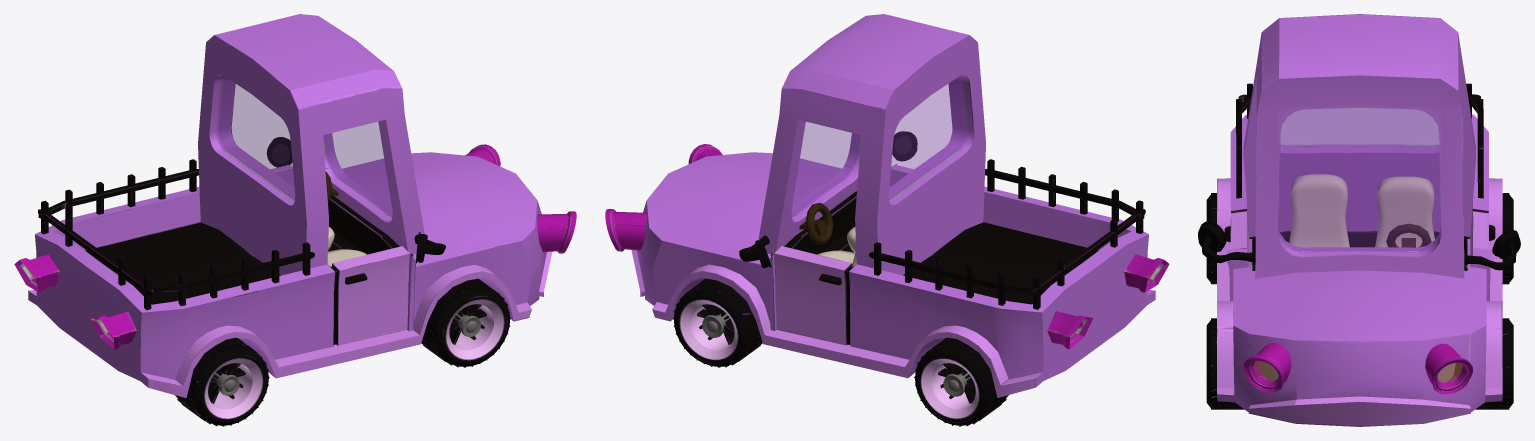
The model's file is pickup_truck_b19f9ed0.glb.
3 views of the same model, side by side, from view 1: azimuth 30°, elevation 25°; view 2: azimuth 150°, elevation 25°; view 3: azimuth 270°, elevation 25° (orthographic). The views are drawn at different scales.
Visible parts, largest first — view 1: Cube, Cube.001, Cylinder, Cylinder.001, Cube.002, Cylinder.006, Cube.017, Cube.018, Cube.019, Cylinder.009, Cylinder.008; view 2: Cube, Cube.001, Cylinder.003, Cylinder.002, Cube.002, Cylinder.007, Cube.017, Cube.018, Cube.019, Torus, Cylinder.008, Cylinder.009; view 3: Cube, Cube.002, Cube.001, Plane.001, Plane, Cylinder.007, Cylinder.006, Cylinder.003, Cylinder.008, Cylinder, Cylinder.009, Torus (+3 smaller).
Boxes of the visible parts, box(x1,y1,x2,y2) form: Cube: box(14, 14, 552, 398); Cube.001: box(216, 76, 294, 202); Cylinder: box(421, 278, 510, 367); Cylinder.001: box(175, 337, 269, 426); Cube.002: box(323, 122, 392, 218); Cylinder.006: box(537, 211, 576, 253); Cube.017: box(139, 252, 314, 292); Cube.018: box(38, 169, 198, 218); Cube.019: box(38, 209, 153, 295); Cylinder.009: box(266, 137, 292, 167); Cylinder.008: box(414, 232, 445, 263); Cube: box(631, 14, 1169, 397); Cube.001: box(889, 76, 967, 202); Cylinder.003: box(673, 278, 762, 367); Cylinder.002: box(914, 337, 1008, 426); Cube.002: box(791, 122, 861, 218); Cylinder.007: box(605, 209, 646, 251); Cube.017: box(985, 169, 1144, 219); Cube.018: box(869, 251, 1044, 293); Cube.019: box(1030, 209, 1145, 295); Torus: box(799, 203, 832, 244); Cylinder.008: box(892, 131, 917, 161); Cylinder.009: box(739, 235, 771, 268); Cube: box(1217, 14, 1502, 426); Cube.002: box(1278, 108, 1441, 252); Cube.001: box(1281, 108, 1438, 146); Plane.001: box(1289, 174, 1349, 247); Plane: box(1375, 176, 1434, 247); Cylinder.007: box(1425, 343, 1472, 394); Cylinder.006: box(1243, 343, 1291, 392); Cylinder.003: box(1475, 318, 1513, 409); Cylinder.008: box(1198, 221, 1255, 263); Cylinder: box(1206, 318, 1244, 409); Cylinder.009: box(1464, 230, 1520, 270); Torus: box(1386, 223, 1431, 247).
Size of the model in its own units: 981 by 577 by 540.
1 material, 1 textured.
